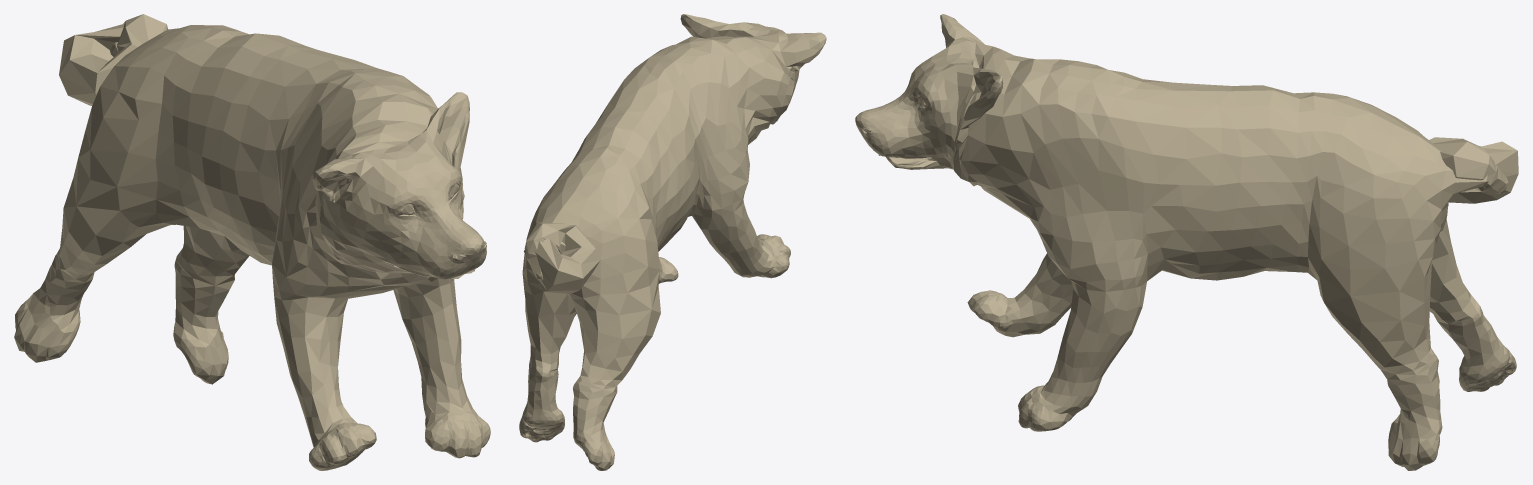
The picture shows the model from 3 angles, left to right: view 1: azimuth 30°, elevation 25°; view 2: azimuth 150°, elevation 25°; view 3: azimuth 270°, elevation 25°; orthographic projection. The views are drawn at different scales.
Parts seen in each view (by area): view 1: world; view 2: world; view 3: world.
Part boxes in pixels (x1,y1,x2,y2): world: (14,14,490,470); world: (519,14,826,470); world: (855,14,1518,470).
Size of the model in its own units: 0.4385 by 0.8306 by 1.25.
